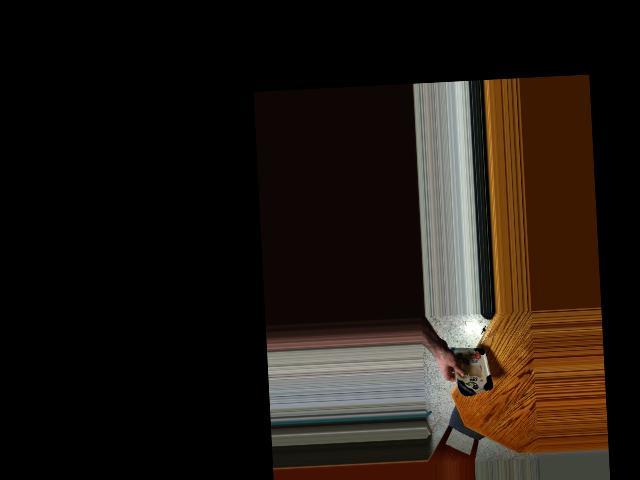cheese: (451, 335, 492, 399)
